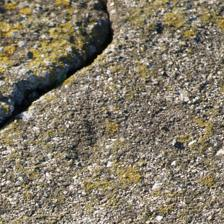Crack: (4, 4, 118, 133)
